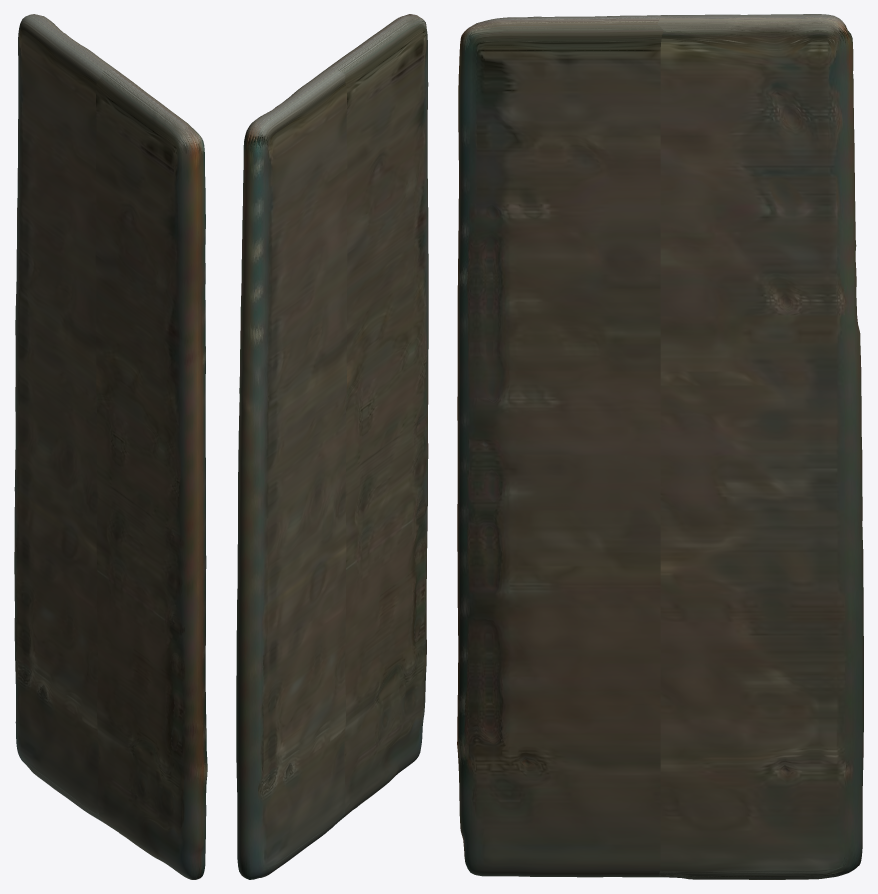
File: kfl-2264.glb
The picture shows the model from 3 angles, left to right: view 1: azimuth 30°, elevation 25°; view 2: azimuth 150°, elevation 25°; view 3: azimuth 270°, elevation 25°; orthographic projection. The views are drawn at different scales.
Parts seen in each view (by area): view 1: geometry_0; view 2: geometry_0; view 3: geometry_0.
Part boxes in pixels (box(x1,y1,x2,y2)): geometry_0: box(14, 14, 207, 879); geometry_0: box(236, 14, 428, 879); geometry_0: box(457, 14, 863, 879).
Bounding box in the file's own units: 0.0411 × 0.9934 × 0.4252.
1 material, 1 textured.
